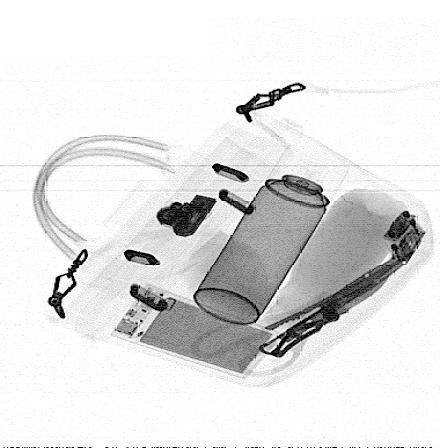Knife: (259, 259, 399, 360)
Powerbank: (109, 283, 279, 380)
Scissors: (193, 260, 404, 377)
Sprayer: (194, 144, 347, 324)
